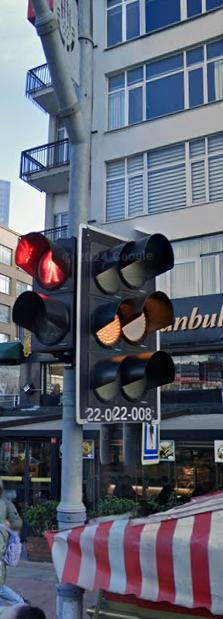yellowlight: (79, 225, 167, 423)
